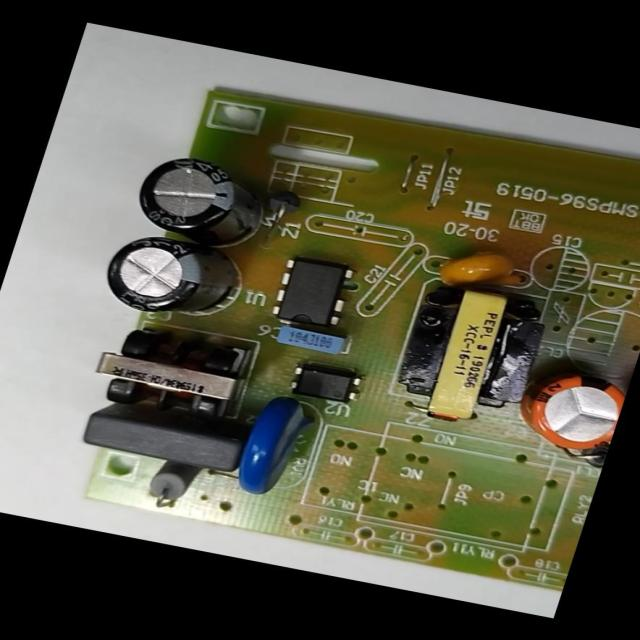Cap1: (504, 351, 633, 464)
Cap3: (88, 226, 263, 332)
Cap4: (118, 141, 291, 256)
MOSFET: (253, 245, 370, 340)
Mov: (224, 388, 324, 506)
Resistor: (130, 456, 214, 516)
Transformer: (370, 265, 570, 442), (77, 309, 265, 434)
